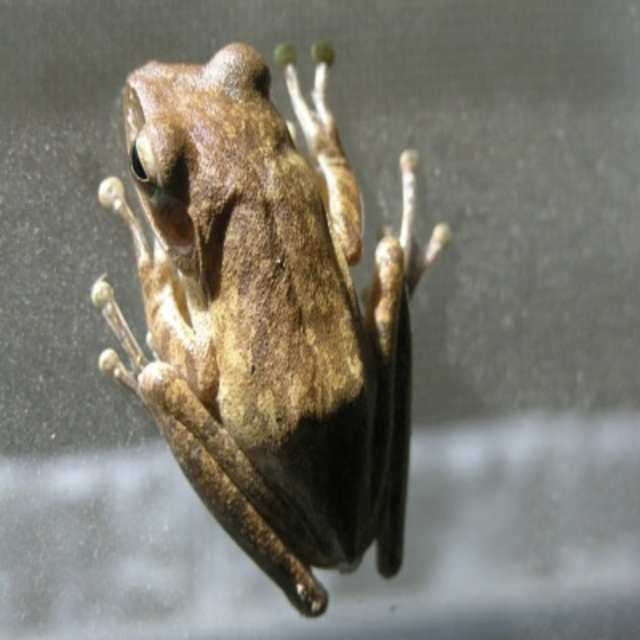Frog: (90, 47, 451, 619)
